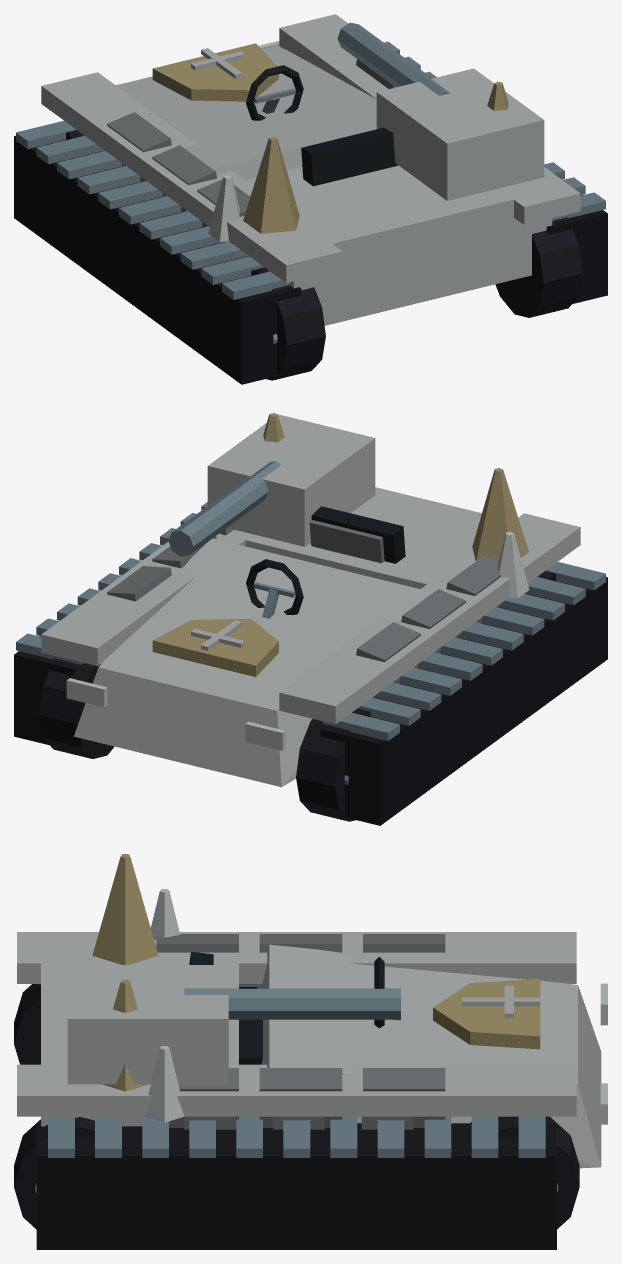
File: kart.glb
3 renders of one model, top to bottom at view 1: azimuth 30°, elevation 25°; view 2: azimuth 150°, elevation 25°; view 3: azimuth 270°, elevation 25°, orthographic. The views are drawn at different scales.
Visible parts, largest first — view 1: identity-tank-tank-armored-hull, identity-tank-tank-full-length-tracks, identity-tank-driver-cockpit, identity-tank-motif-crystals, wheel-rear-right, identity-tank-motif-shield, wheel-rear-left, identity-tank-motif-armor; view 2: identity-tank-tank-armored-hull, identity-tank-tank-full-length-tracks, identity-tank-motif-armor, identity-tank-driver-cockpit, identity-tank-motif-shield, identity-tank-motif-crystals, wheel-front-left, wheel-front-right; view 3: identity-tank-tank-armored-hull, identity-tank-tank-full-length-tracks, identity-tank-motif-armor, identity-tank-motif-crystals, identity-tank-motif-shield, wheel-front-right, wheel-rear-right, wheel-rear-left, identity-tank-driver-cockpit.
Part boxes in pixels (x1,y1,x2,y2): identity-tank-tank-armored-hull: (41, 14, 580, 325); identity-tank-tank-full-length-tracks: (14, 41, 607, 384); identity-tank-driver-cockpit: (246, 65, 398, 186); identity-tank-motif-crystals: (208, 81, 508, 241); wheel-rear-right: (495, 217, 582, 317); identity-tank-motif-shield: (152, 43, 278, 101); wheel-rear-left: (251, 267, 325, 380); identity-tank-motif-armor: (107, 59, 395, 241); identity-tank-tank-armored-hull: (41, 414, 580, 787); identity-tank-tank-full-length-tracks: (14, 502, 607, 825); identity-tank-motif-armor: (107, 526, 501, 662); identity-tank-driver-cockpit: (246, 506, 405, 618); identity-tank-motif-shield: (152, 618, 278, 676); identity-tank-motif-crystals: (263, 413, 529, 598); wheel-front-left: (296, 708, 370, 821); wheel-front-right: (39, 658, 114, 758); identity-tank-tank-armored-hull: (17, 932, 607, 1168); identity-tank-tank-full-length-tracks: (36, 984, 556, 1249); identity-tank-motif-armor: (156, 934, 445, 1127); identity-tank-motif-crystals: (92, 854, 184, 1122); identity-tank-motif-shield: (433, 978, 540, 1049); wheel-front-right: (470, 1116, 579, 1229); wheel-rear-right: (14, 1117, 94, 1229); wheel-rear-left: (14, 984, 40, 1064); identity-tank-driver-cockpit: (189, 952, 400, 1064).
Size of the model in its own units: 2.38 by 1.32 by 2.88.
